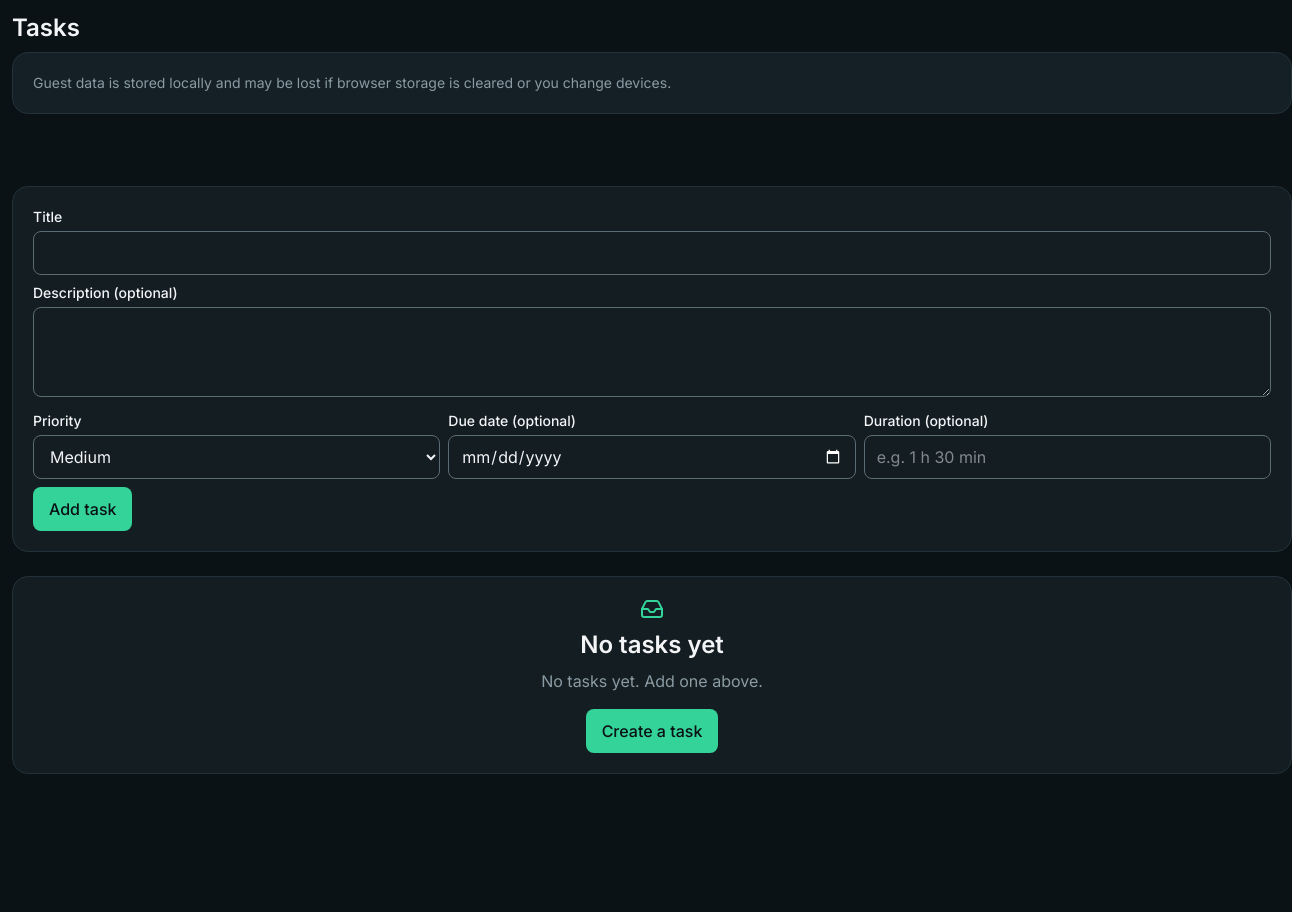
creating tasks › creates only one task when the form is submitted twice
Type "Only once" into the field labelled "Title".
click(652, 253); type("Only once")  # box [33,231,1271,275]
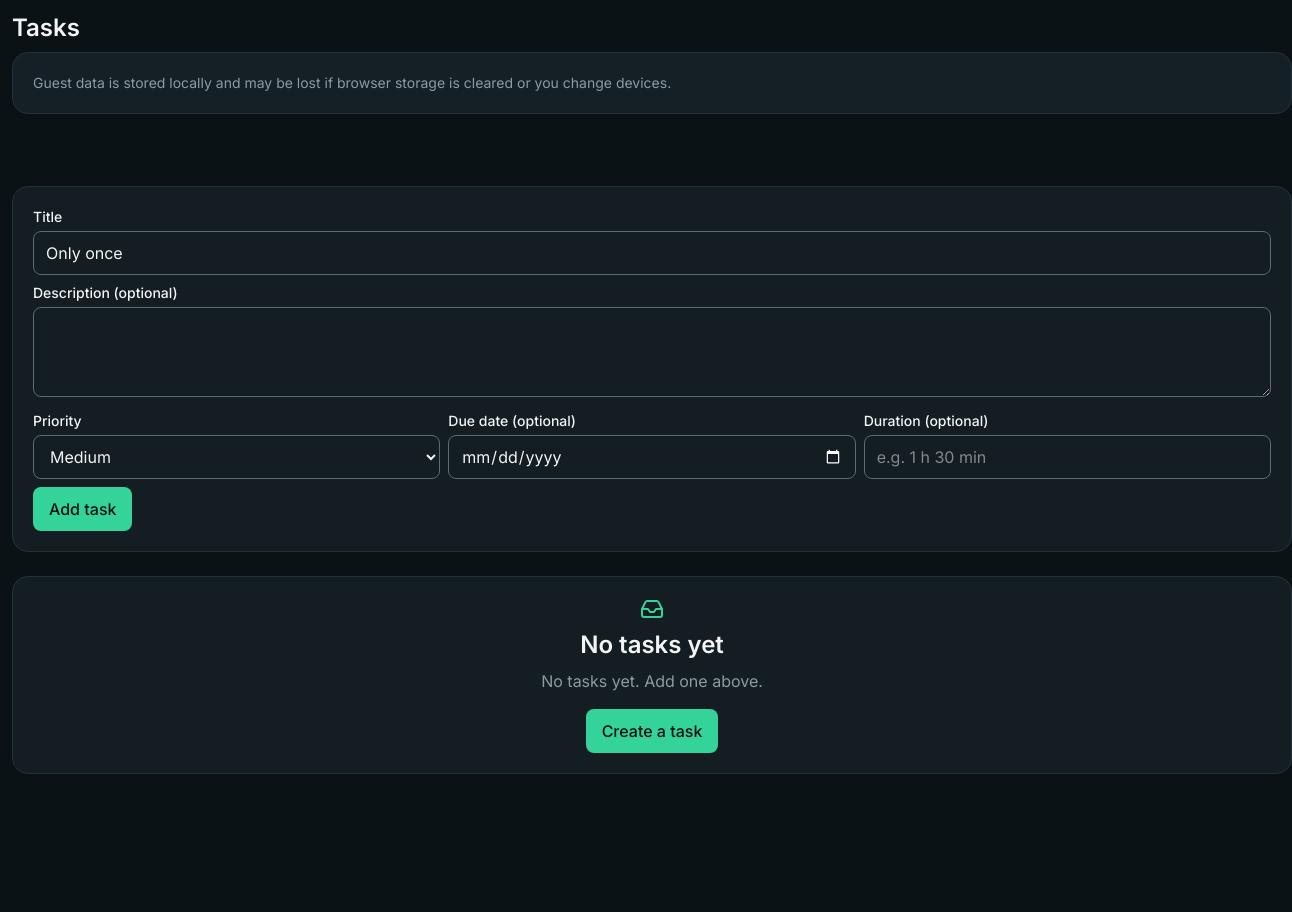
Click the button "Add task".
click(83, 509)  # box [33,487,132,531]
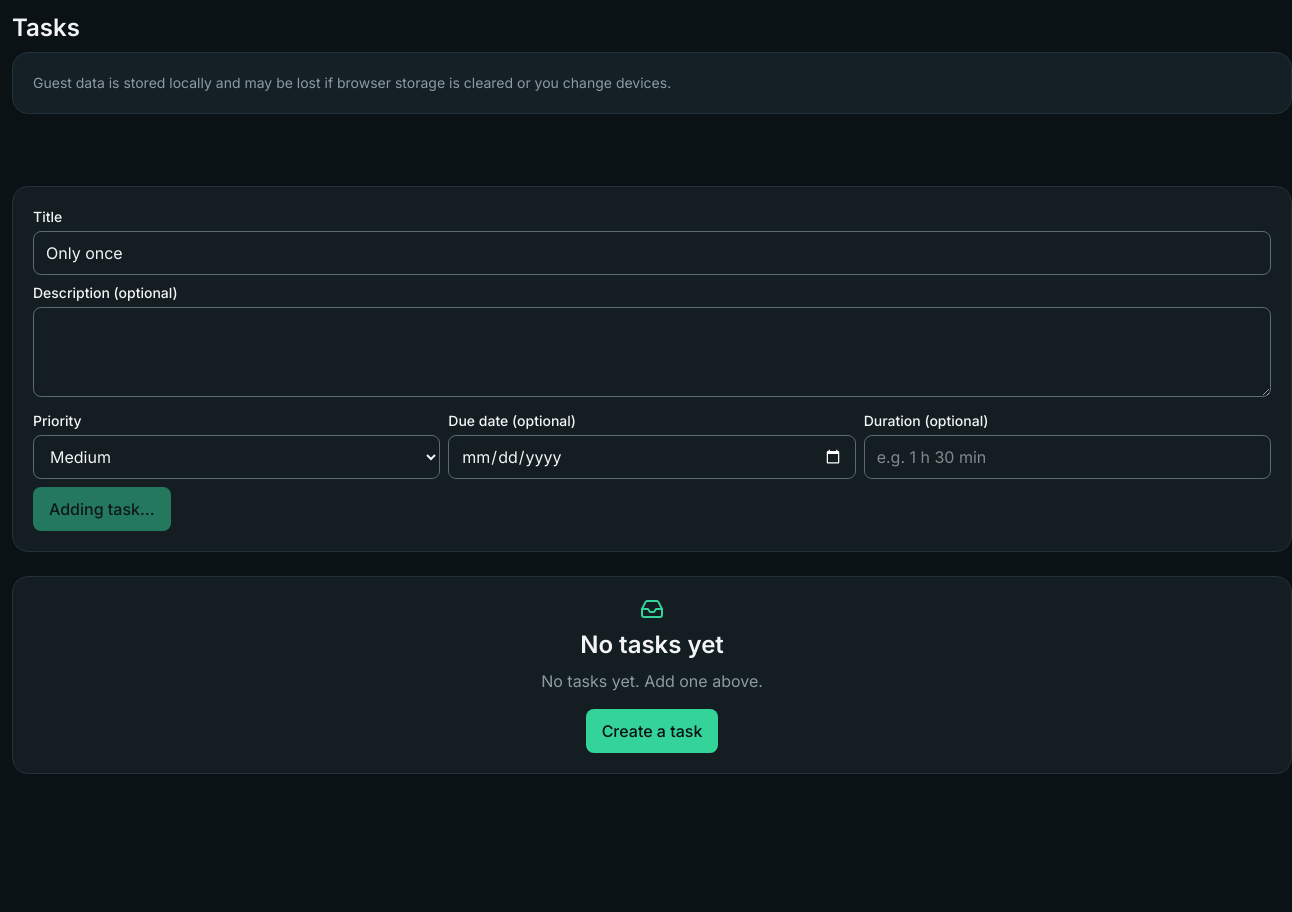
Click the button named "Add task".
click(102, 509)  # box [33,487,171,531]
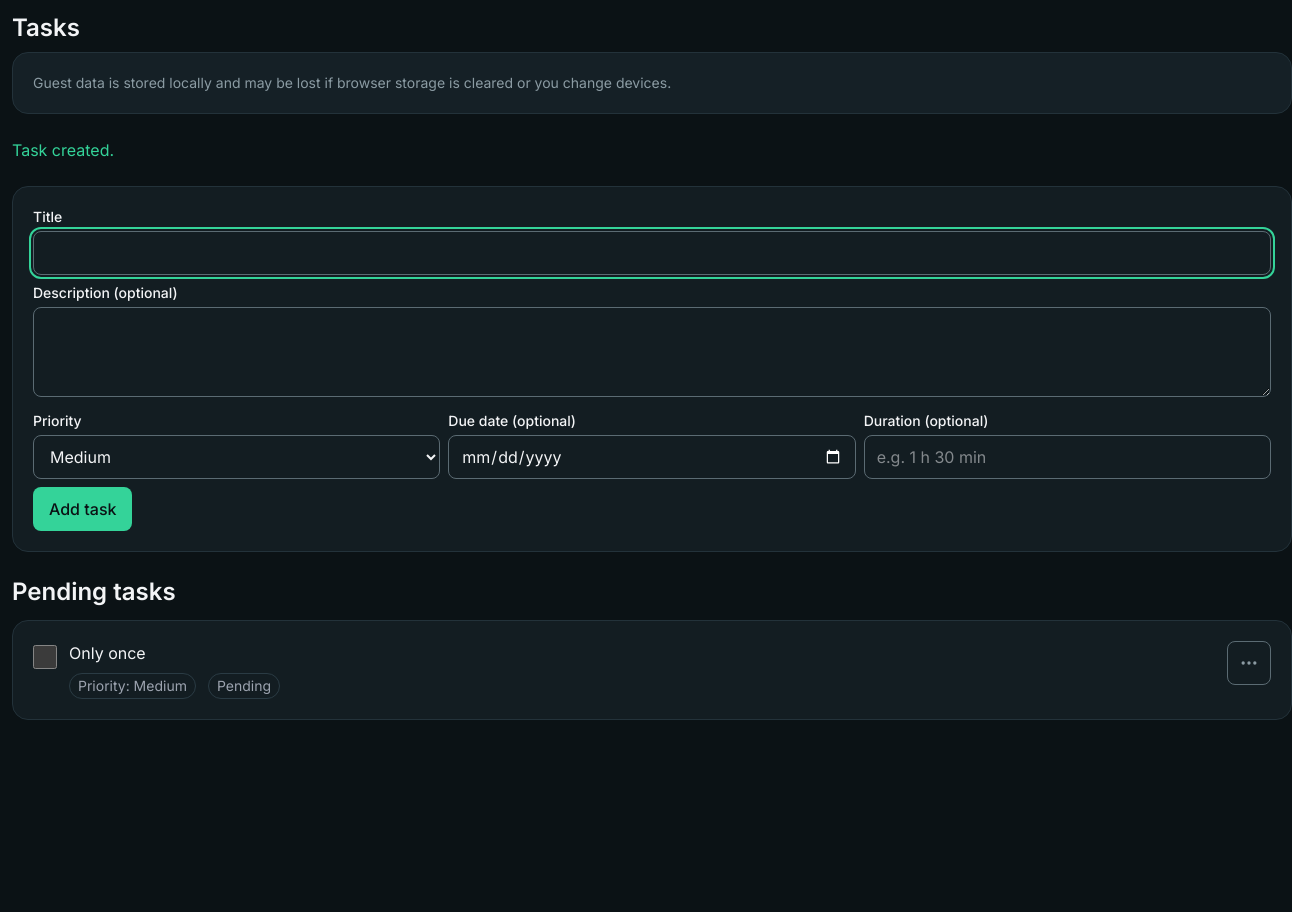
Now the text "Only once" is shown, box [69,643,146,663]
Now the number of list items is 1, box [12,620,1291,720]
